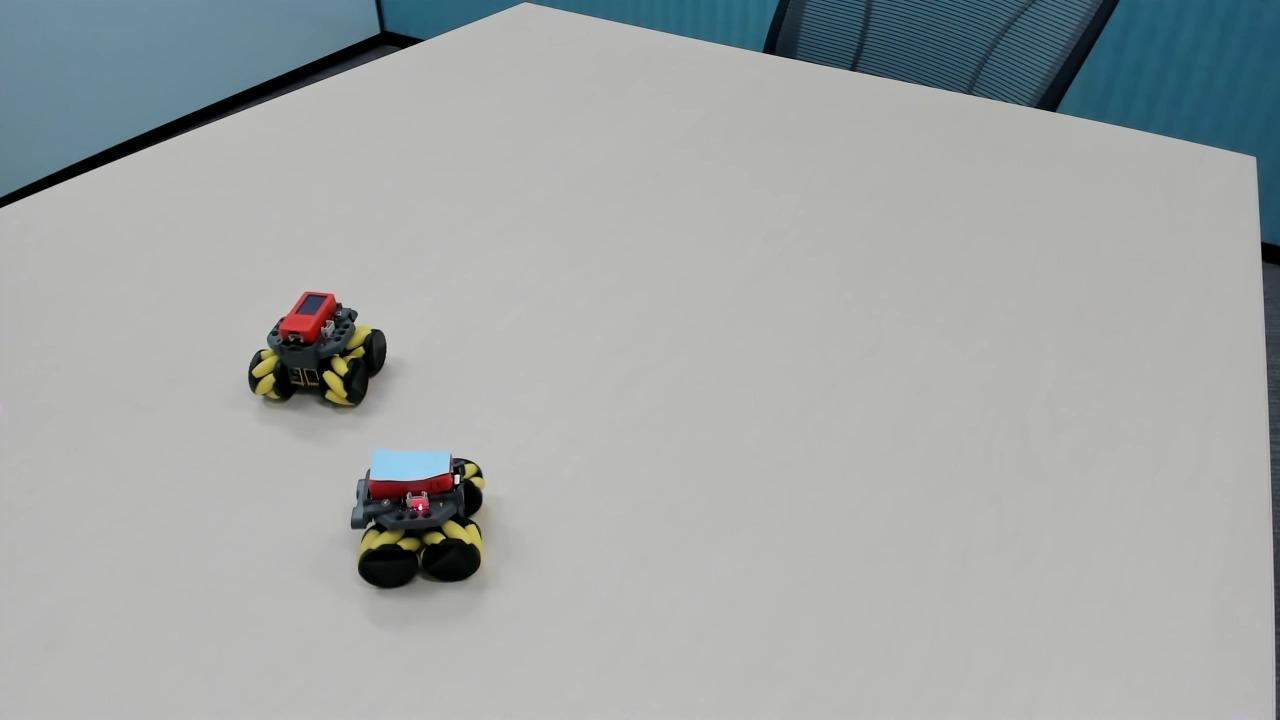B-Robot: (345, 439, 499, 613)
R-Robot: (240, 275, 406, 428)
